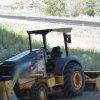Tractor: (3, 17, 87, 96)
